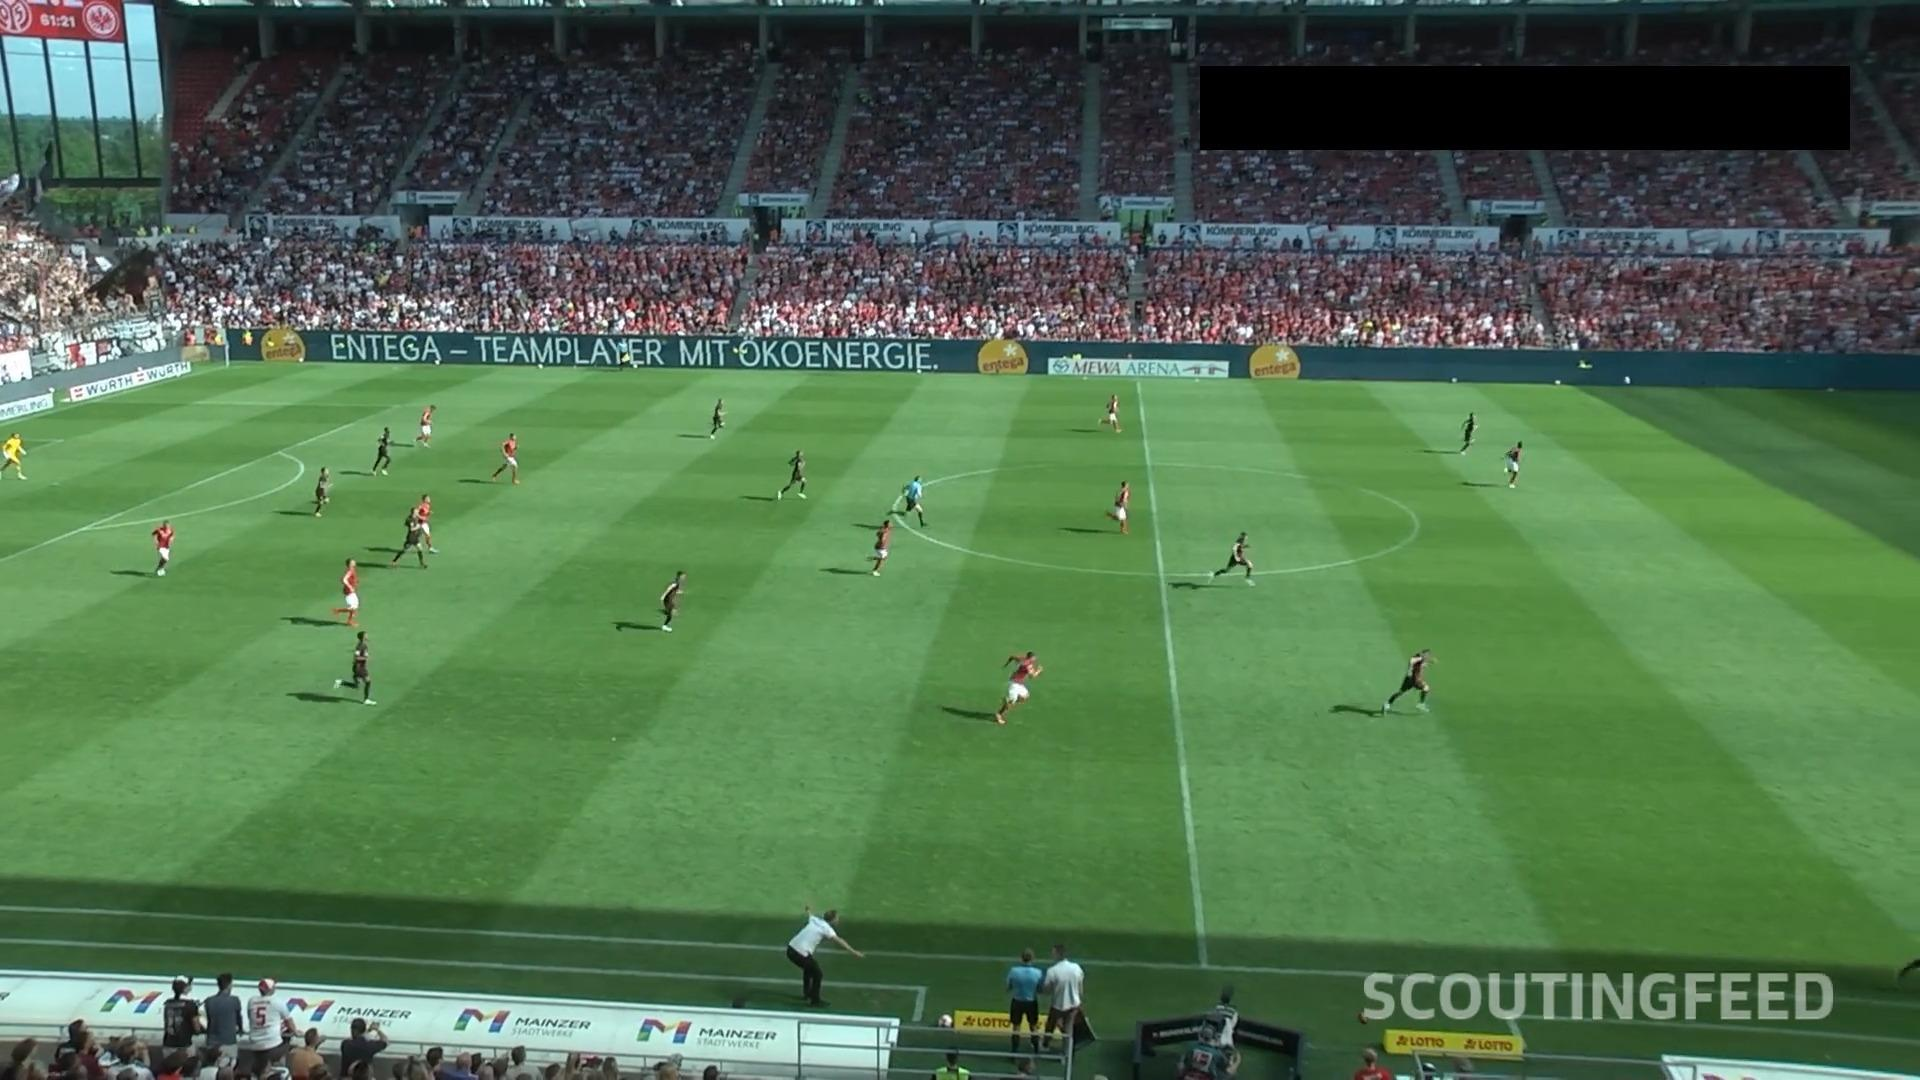ball: (1622, 376, 1631, 385)
